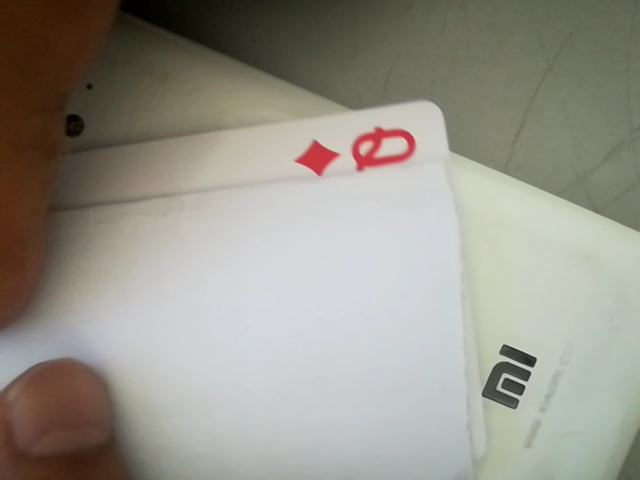fk q: (284, 118, 434, 180)
